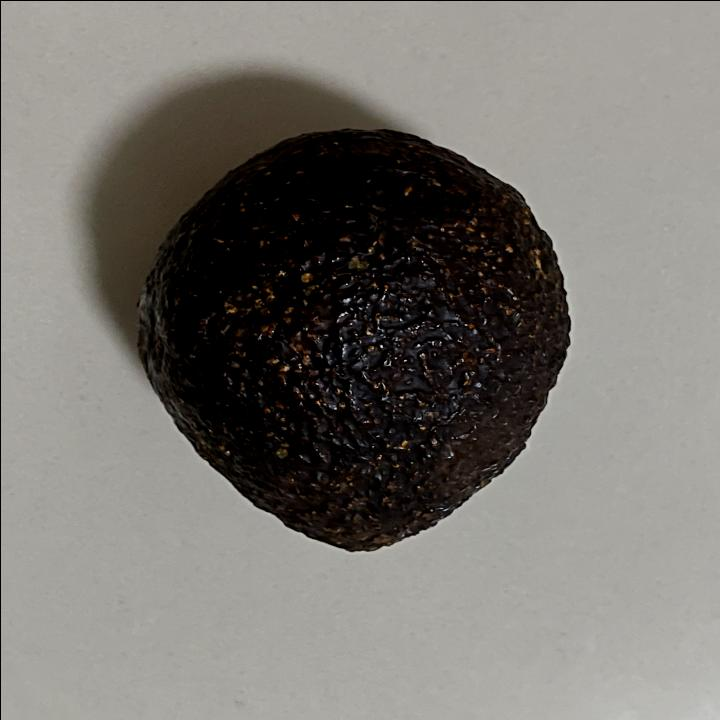Level3: (126, 119, 580, 561)
